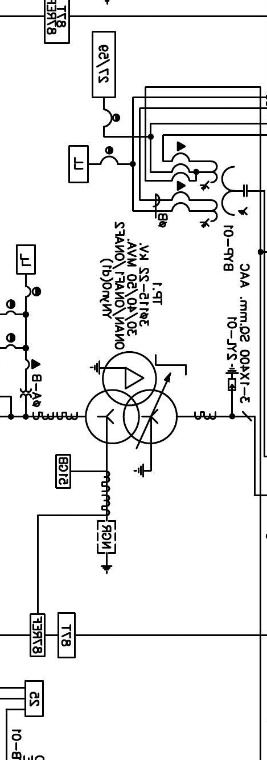11522_tx_ynyn0d1: (84, 351, 178, 445)
115_cvt_3p: (199, 160, 248, 229)
115_la: (225, 363, 239, 391)
LL: (68, 145, 89, 183), (16, 244, 36, 275)
NGR_future: (97, 520, 116, 574)
